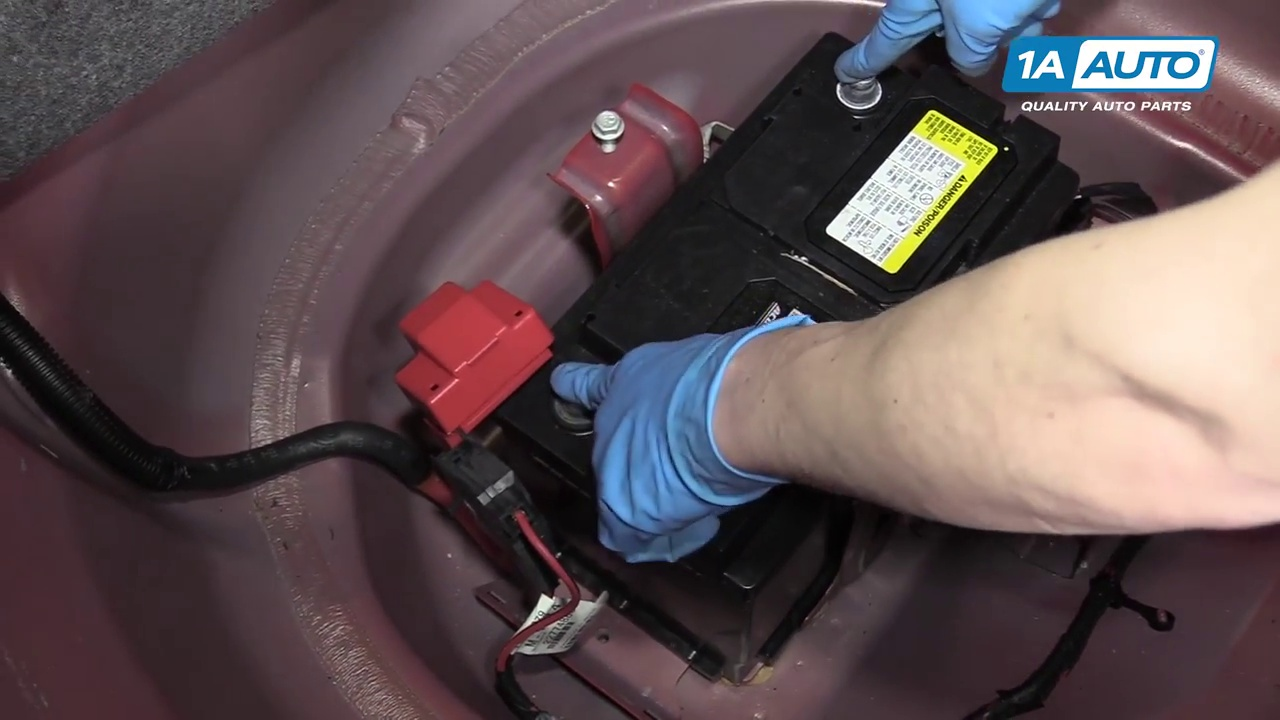battery: (487, 35, 1058, 589)
neg_touched: (787, 1, 1009, 145)
pos_touched: (353, 298, 682, 479)
